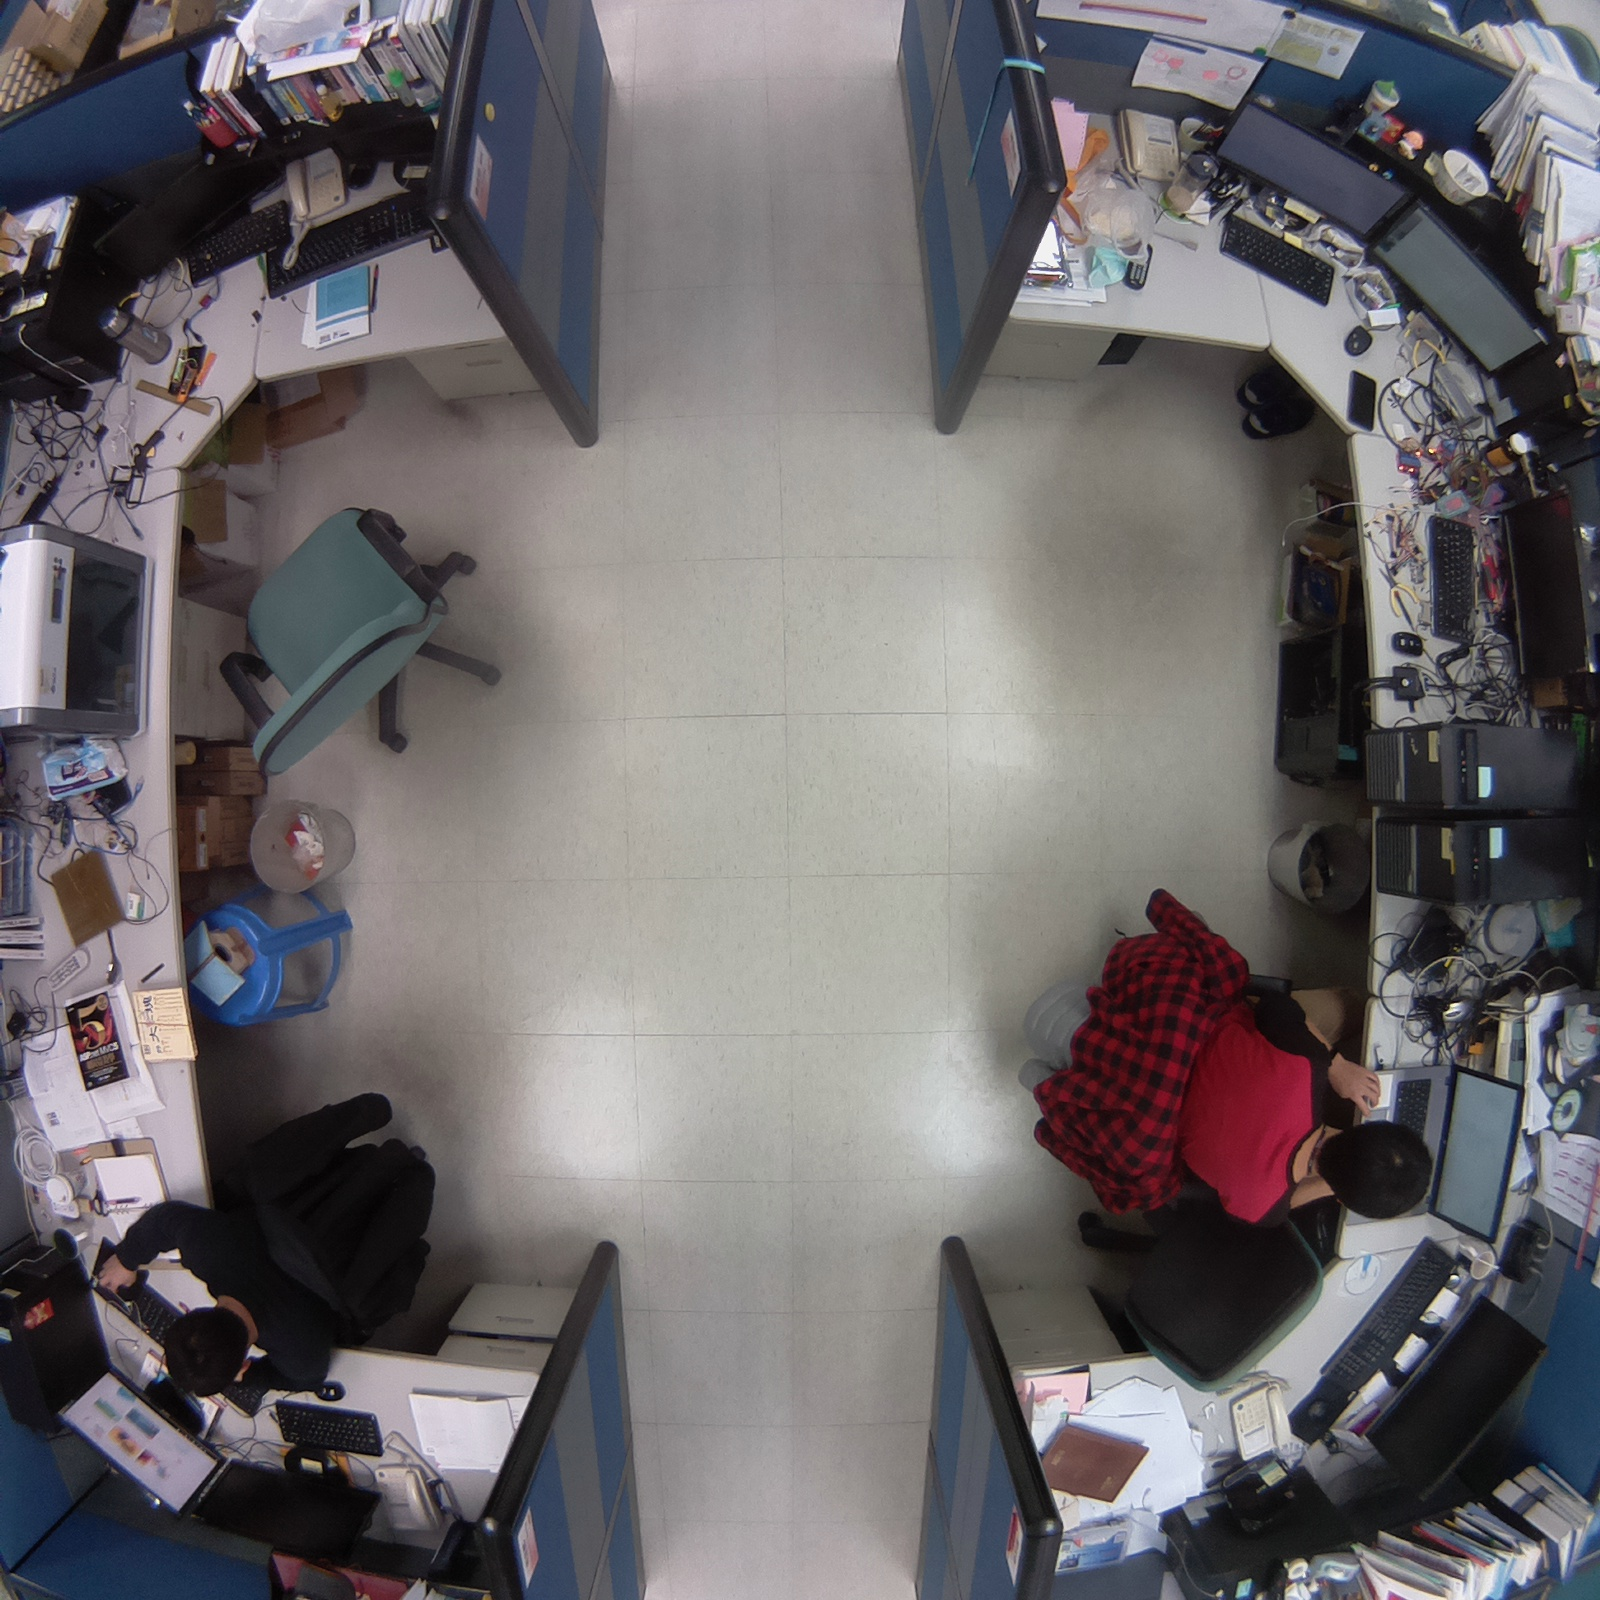chair: (214, 488, 547, 793), (1060, 1188, 1345, 1406)
head: (1312, 1119, 1438, 1221), (157, 1300, 261, 1408)
sitting: (1014, 865, 1451, 1235), (82, 1078, 455, 1404)
